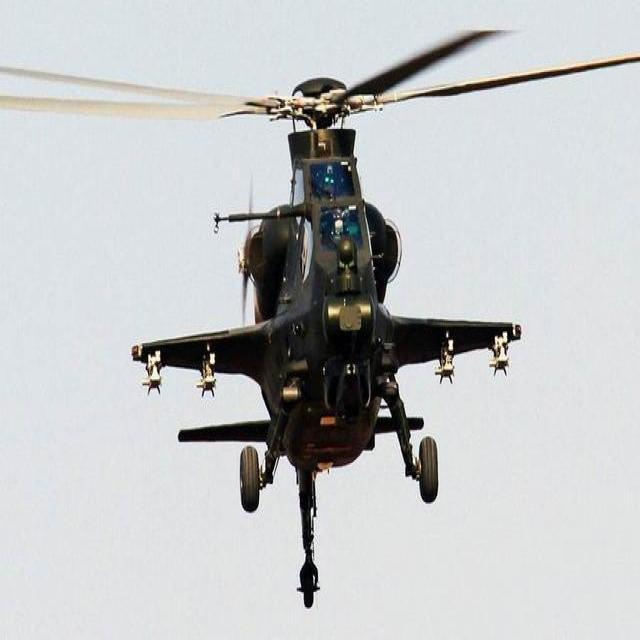MIL_HELO: (6, 18, 640, 613)
